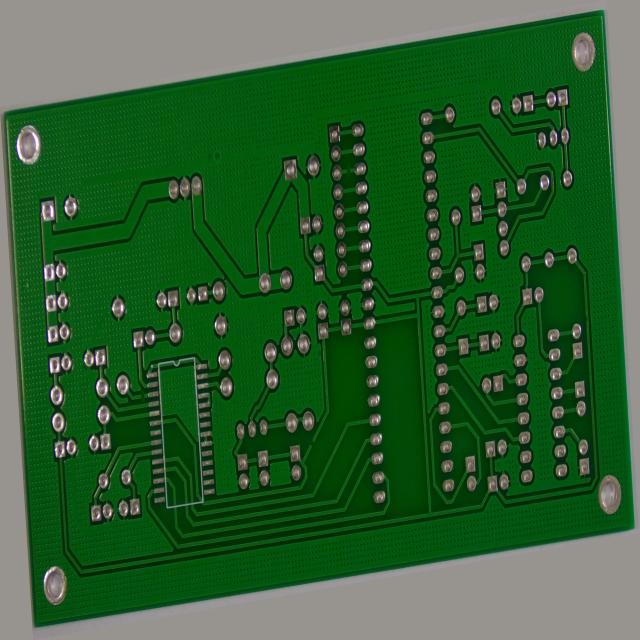open_circuit: (299, 456, 308, 473), (355, 141, 364, 157), (126, 366, 133, 380)
